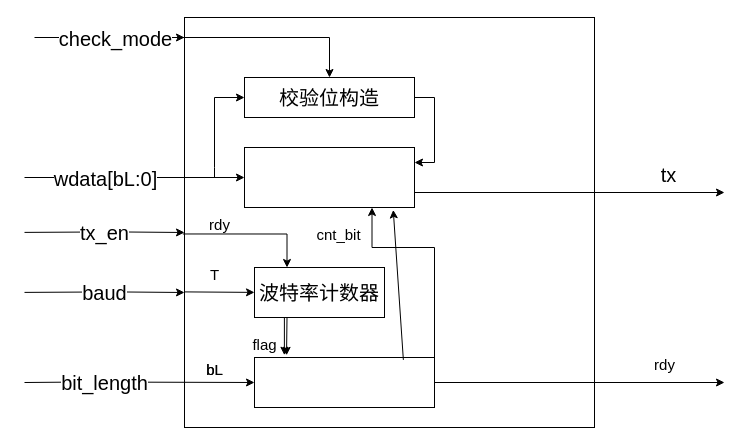
This 750x445 diagram has some shape labels left out. The centre of each missing label's shape, as x and y in pixels:
位计数器: point (344, 382)
移位寄存器: point (329, 177)
